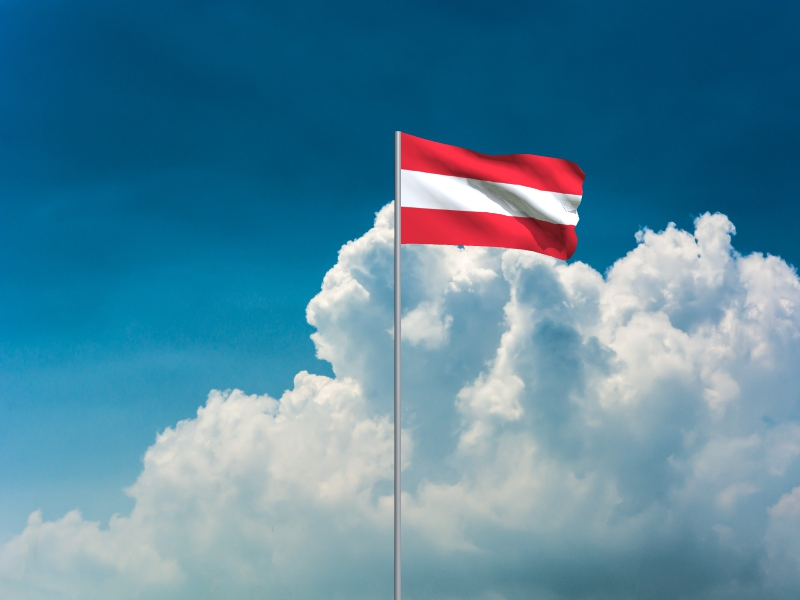at: (402, 133, 588, 262)
